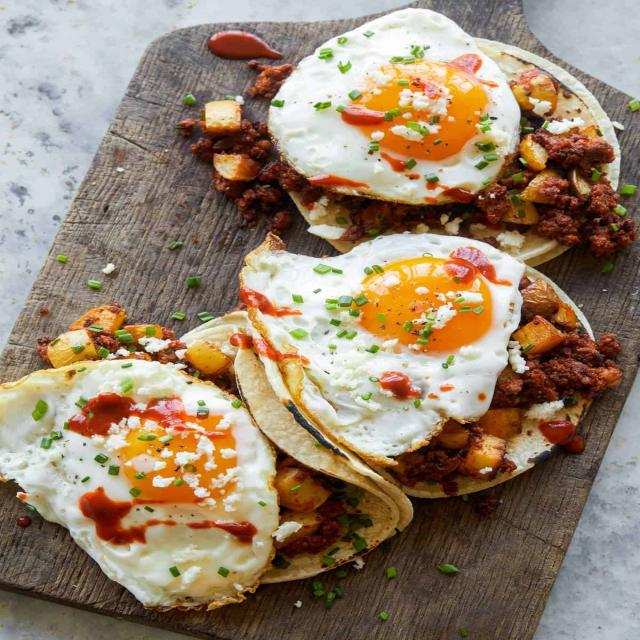Egg: (2, 360, 280, 609), (240, 234, 524, 465), (268, 8, 521, 205)
